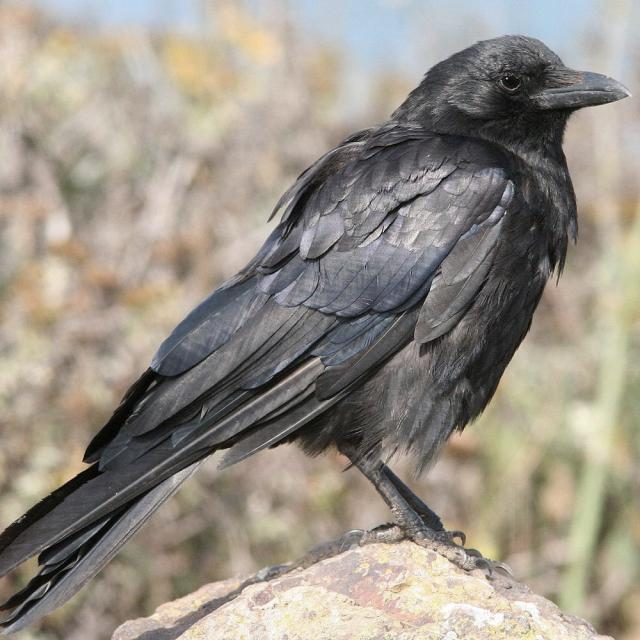crow: (1, 35, 629, 633)
